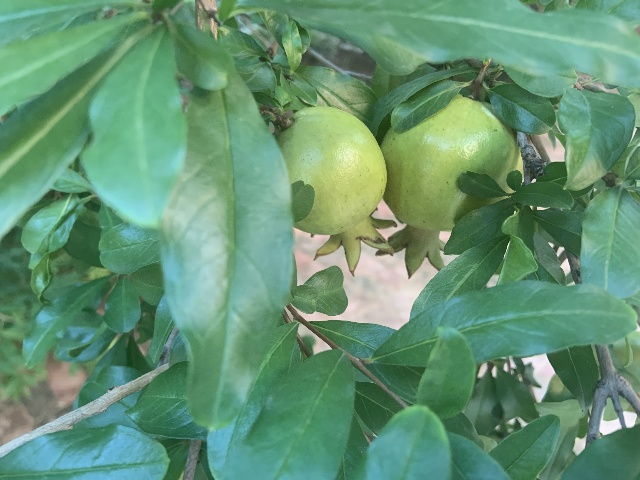mid-growth: (380, 94, 519, 279), (276, 106, 397, 278)
